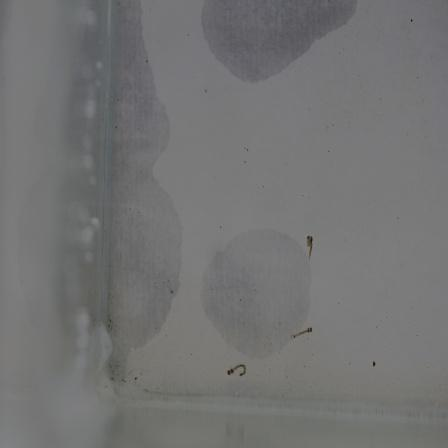Jentik-Nyamuk: (224, 355, 253, 385), (286, 322, 317, 344)
